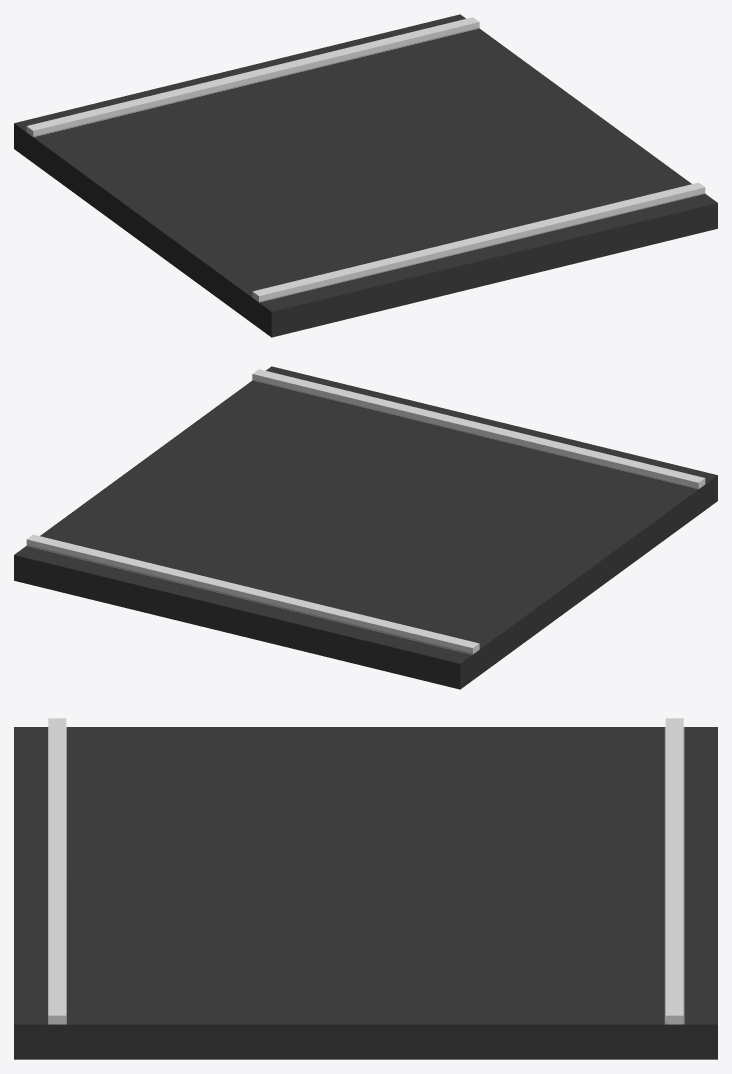
File: 09 Road Straight.fbx
3 renders of one model, top to bottom at view 1: azimuth 30°, elevation 25°; view 2: azimuth 150°, elevation 25°; view 3: azimuth 270°, elevation 25°, orthographic. The views are drawn at different scales.
Parts seen in each view (by area): view 1: 09 Road Straight; view 2: 09 Road Straight; view 3: 09 Road Straight.
Boxes of the visible parts, left/top/right/bottom form: 09 Road Straight: left=14, top=14, right=717, bottom=337; 09 Road Straight: left=14, top=366, right=717, bottom=689; 09 Road Straight: left=14, top=718, right=717, bottom=1059.
Bounding box in the file's own units: 100 × 6.89 × 100.
Materials: 1 (1 with a texture image).
